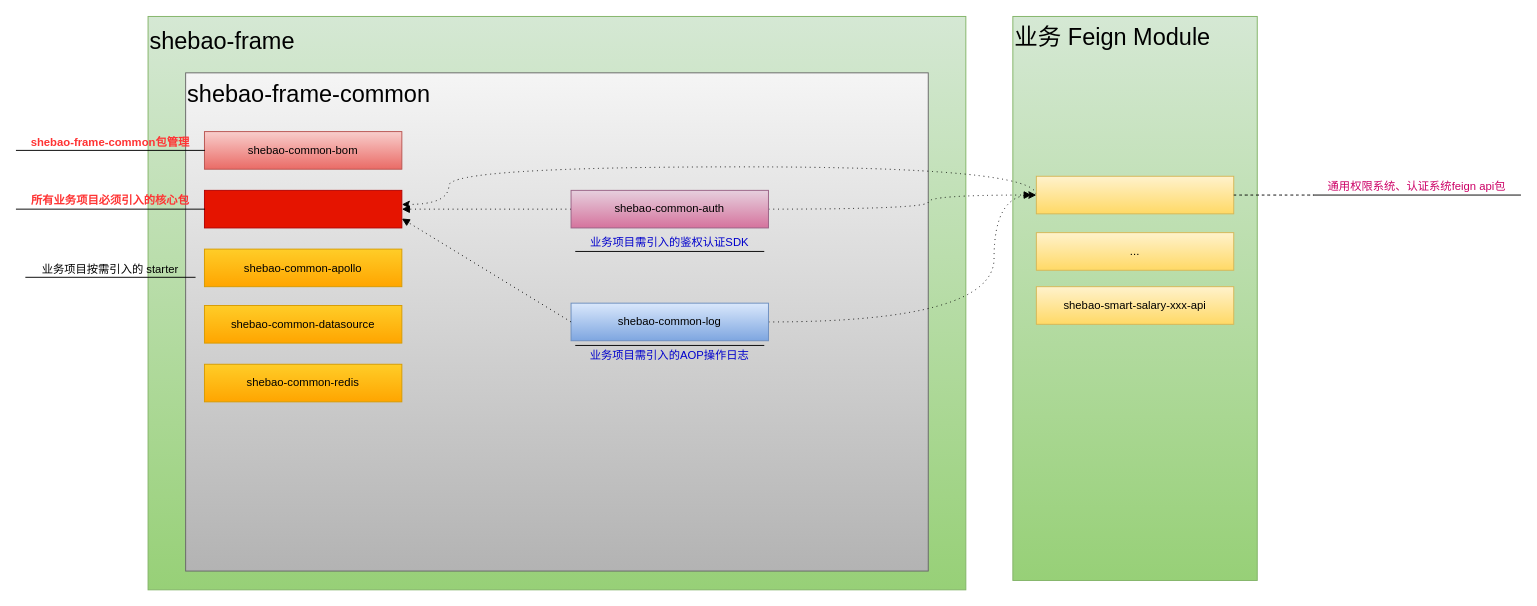
The diagram is 1537 pixels wide and 606 high, and some of its shapes have lost their labels. Each missing label, with the centre of its shape:
shebao-common-core: the point at 303,208
shebao-smart-salary-auth-api: the point at 1134,194
